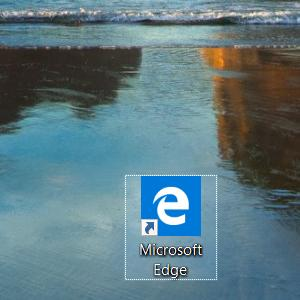edge: (141, 176, 201, 236)
